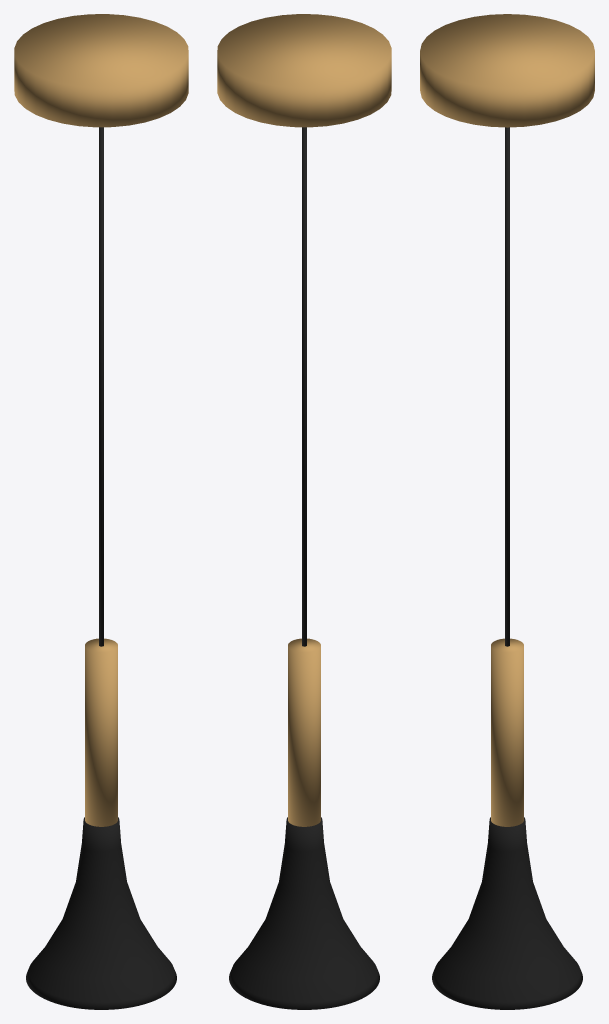
3 views of the same model, side by side, from view 1: azimuth 30°, elevation 25°; view 2: azimuth 150°, elevation 25°; view 3: azimuth 270°, elevation 25° (orthographic).
Parts seen in each view (by area): view 1: void-sky-s7; view 2: void-sky-s7; view 3: void-sky-s7.
Boxes of the visible parts, x1,y1,x2,y2 form: void-sky-s7: [14, 14, 188, 1009]; void-sky-s7: [217, 14, 391, 1009]; void-sky-s7: [420, 14, 594, 1009].
Size of the model in its own units: 0.1 by 0.5853 by 0.1.
